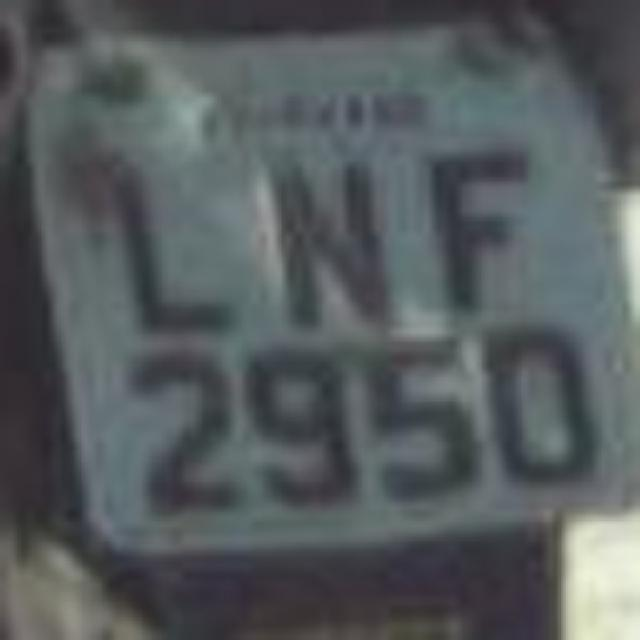0: (452, 316, 628, 512)
2: (100, 324, 265, 524)
5: (336, 336, 496, 509)
9: (212, 315, 372, 520)
F: (420, 140, 535, 320)
J: (92, 140, 232, 345)
N: (252, 136, 408, 336)
